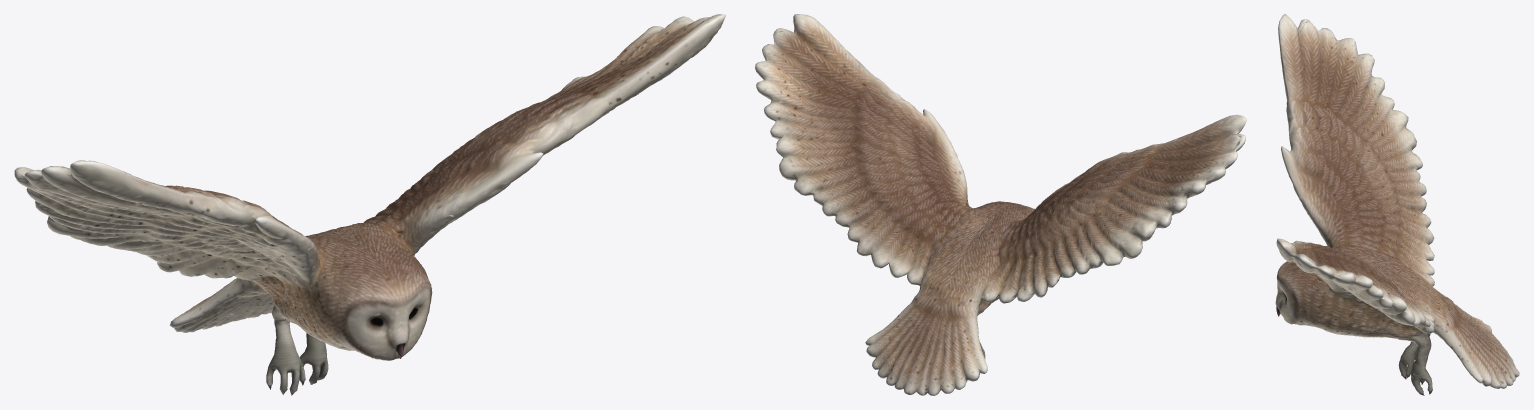
File: MZ4250 - Owl.glb
3 renders of one model, left to right at view 1: azimuth 30°, elevation 25°; view 2: azimuth 150°, elevation 25°; view 3: azimuth 270°, elevation 25°, orthographic. The views are drawn at different scales.
Parts seen in each view (by area): view 1: Owl.001; view 2: Owl.001; view 3: Owl.001.
Boxes of the visible parts, x1,y1,x2,y2 form: Owl.001: (14, 14, 725, 395); Owl.001: (755, 14, 1246, 395); Owl.001: (1275, 14, 1519, 395).
Size of the model in its own units: 38.12 by 20.02 by 16.7.
Materials: 1 (1 with a texture image).
